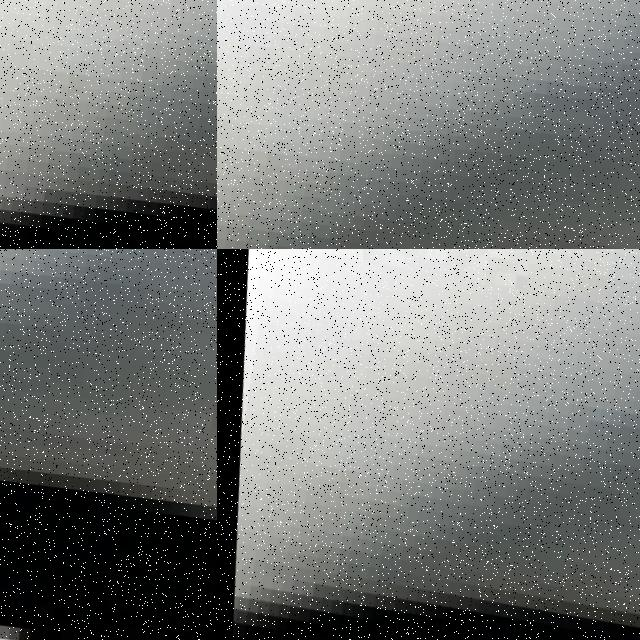drone: (217, 249, 640, 640)
